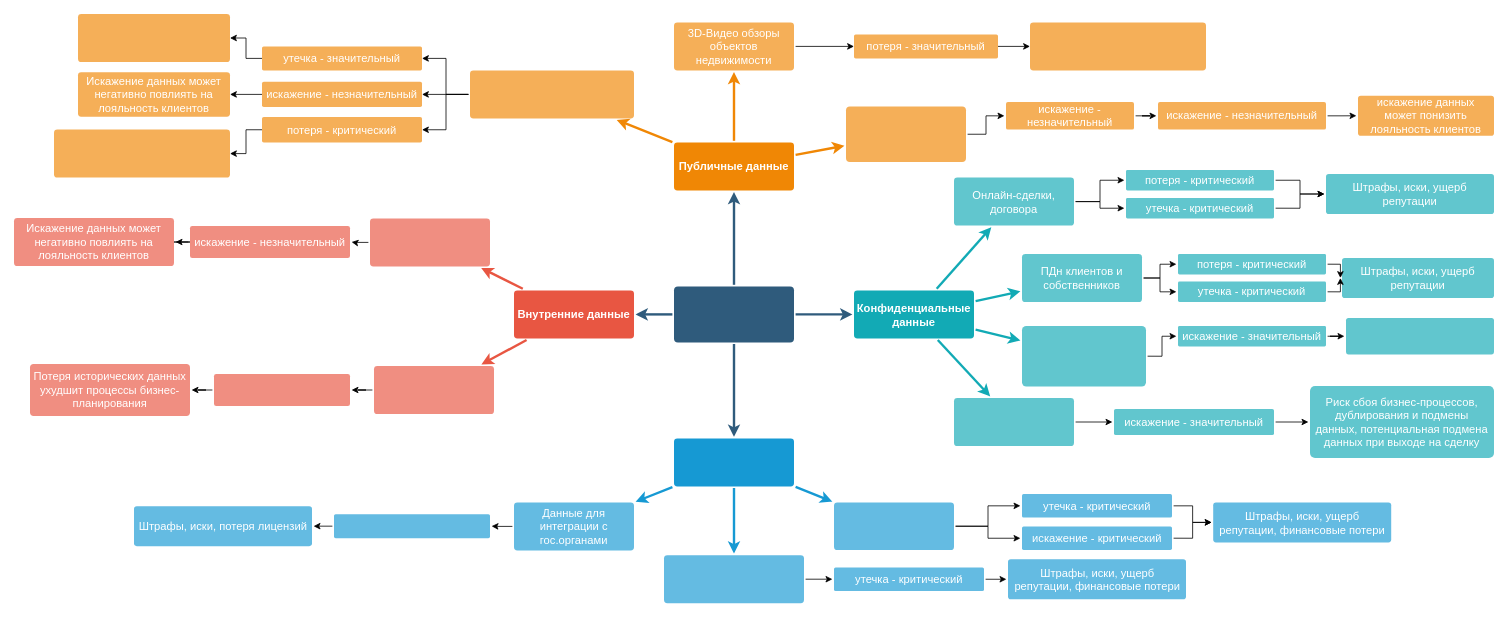
Some shapes in this 1507 by 617 pixel diagram are drawn without their labels. The shapes that lost their labels are listed below. From the top down, each one's centre as x and y in pixels, then its label:
At point (154, 38): "Утечка данных к конкуретам может привести к финансовым потерям".
At point (1118, 46): "потеря данных будет блокирующим фактором для онлайн-канала продаж".
At point (552, 94): "Фонд недвижимости, онлайн-витрина".
At point (142, 153): "потеря данных будет блокирующим фактором для всех каналов продаж".
At point (906, 134): "Публичная информация по ЖК (часы работы, адрес и.т.п.)".
At point (430, 242): "Данные эксплуатации ЖК (без ПДн)".
At point (734, 314): "Безопасность данных".
At point (1084, 356): "Платежные/интеграционные данные управляющих комапний".
At point (1420, 336): "Финансовые риски перехвата платежей ЖКХ".
At point (282, 390): "некачественные данные - незначительный".
At point (434, 390): "BI, отчетность, исторические данные".
At point (1014, 422): "Данные бронирований".
At point (734, 462): "Секретные данные".
At point (412, 526): "утечка -критический".
At point (894, 526): "Финансовые данные".
At point (734, 579): "Доступы к ИС (пароли клиентов, ключи для api, ключи умного дома)".
